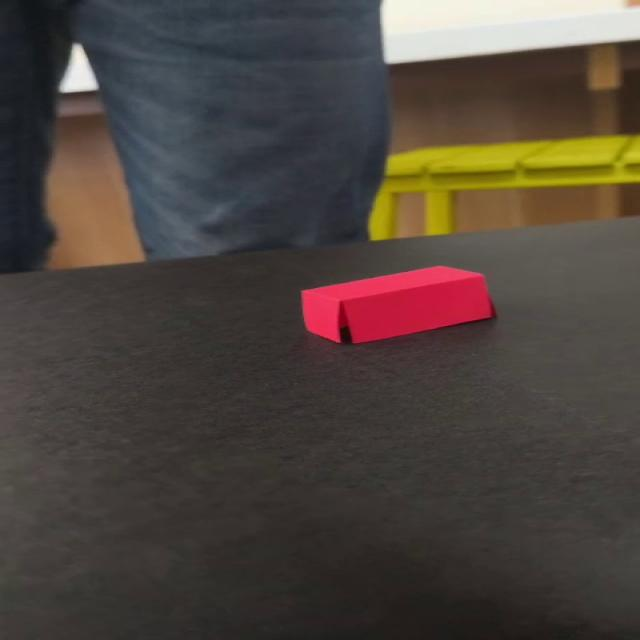red block: (298, 264, 494, 344)
